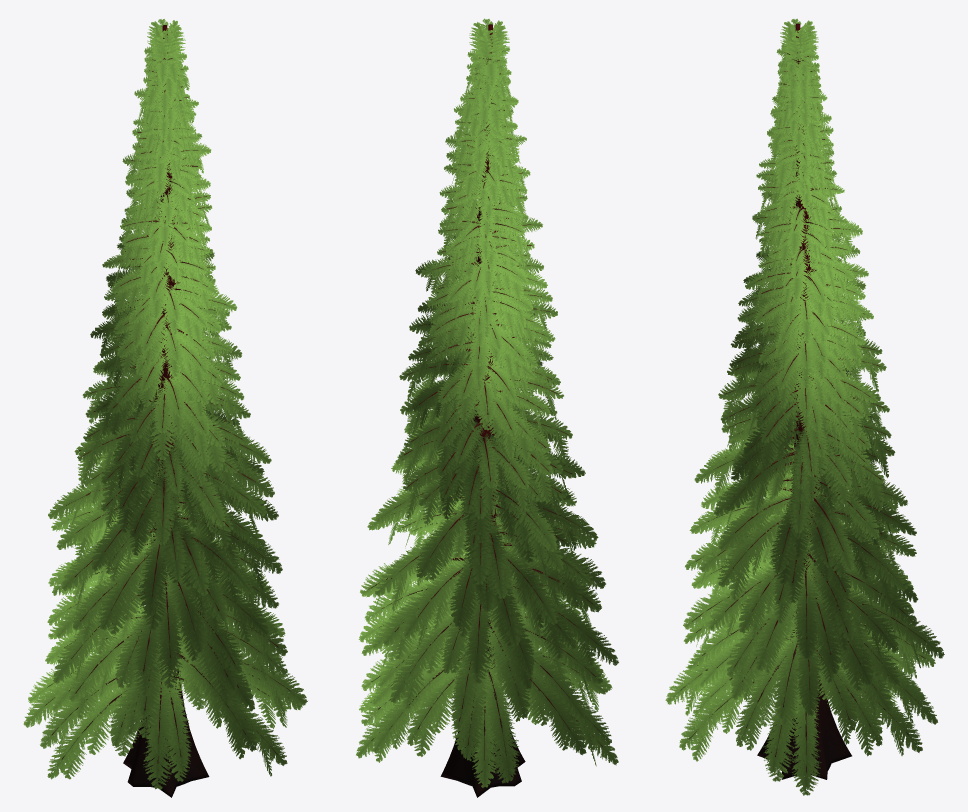
File: baldcypress_v01.glb
3 views of the same model, side by side, from view 1: azimuth 30°, elevation 25°; view 2: azimuth 150°, elevation 25°; view 3: azimuth 270°, elevation 25° (orthographic). The views are drawn at different scales.
Parts seen in each view (by area): view 1: baldcypress_v01; view 2: baldcypress_v01; view 3: baldcypress_v01.
Boxes of the visible parts, <box> form: baldcypress_v01: <box>23,19,307,797</box>; baldcypress_v01: <box>356,18,618,797</box>; baldcypress_v01: <box>665,18,944,795</box>.
Bounding box in the file's own units: 8.13 × 22.2 × 8.03.
2 materials, 2 textured.
